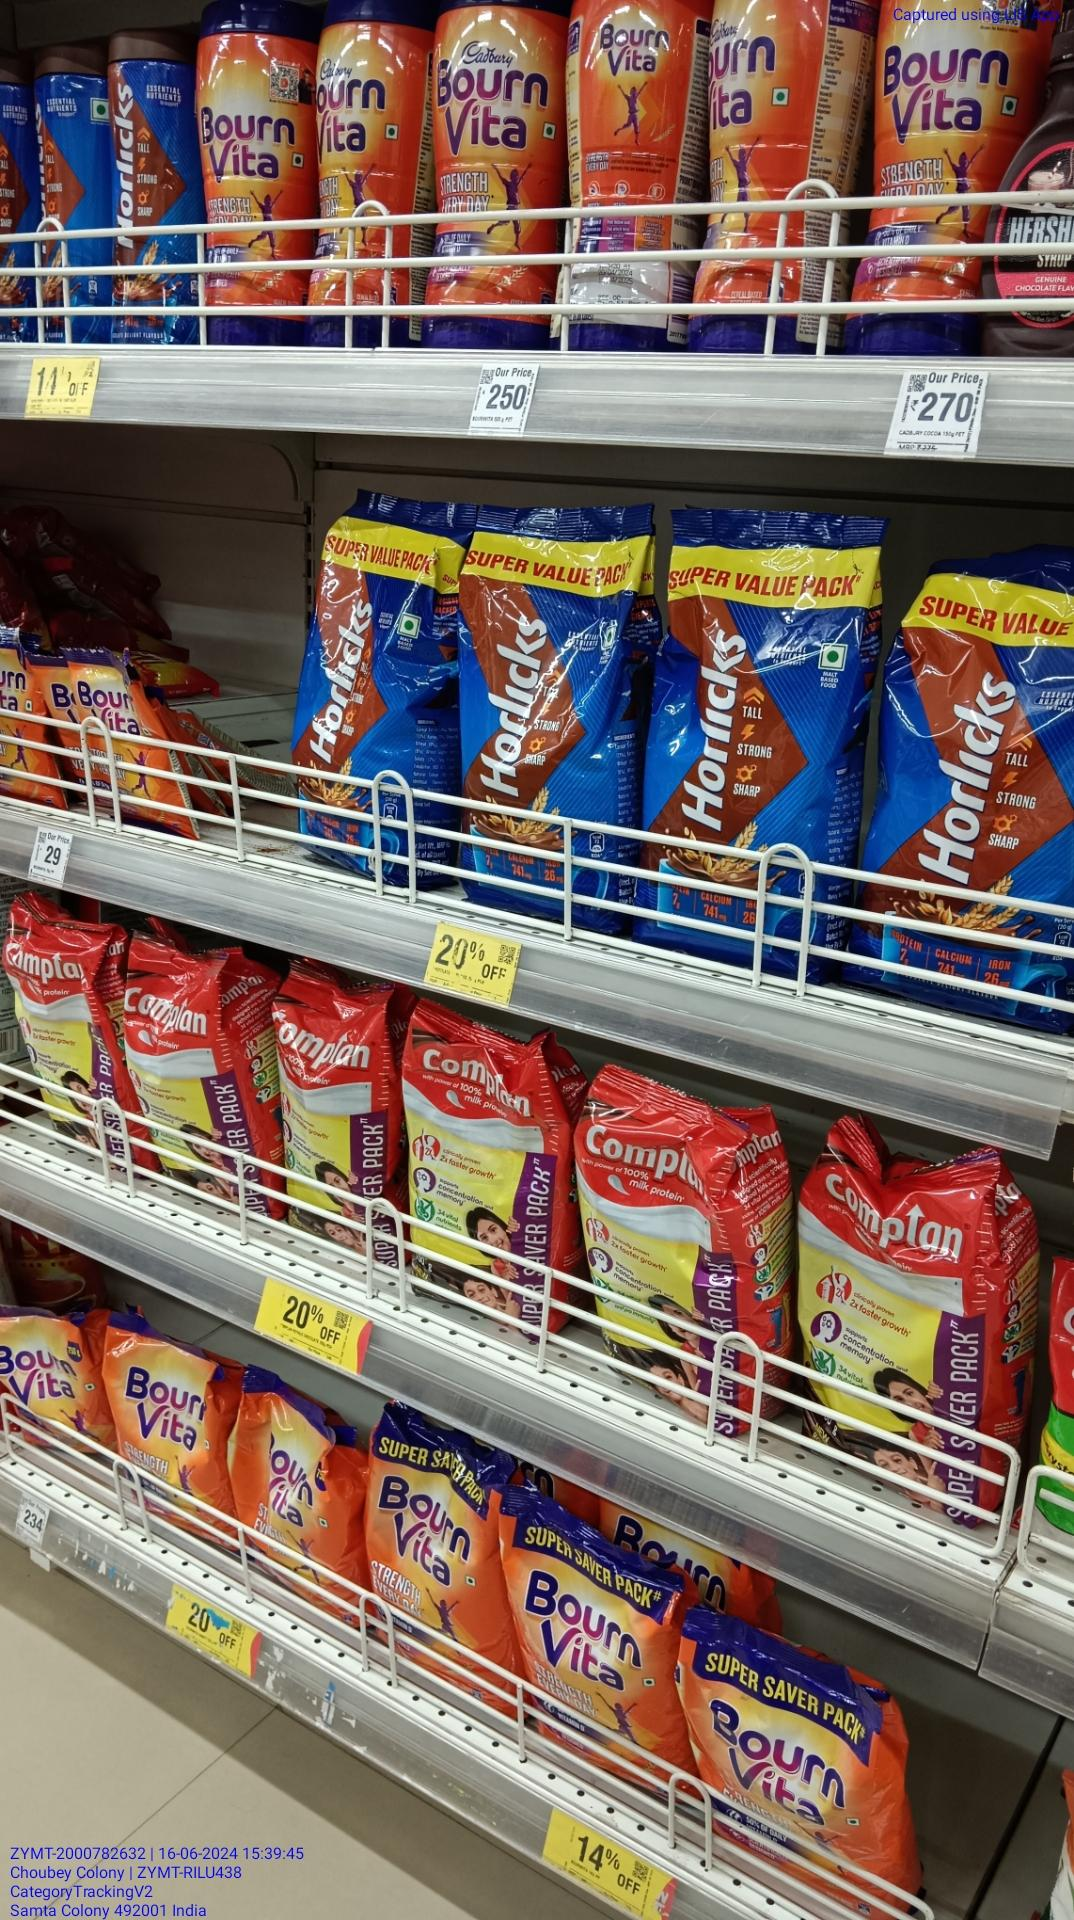BOURN_VITA_1_KG_JAR: (701, 0, 843, 359), (557, 3, 690, 351), (855, 0, 982, 357), (301, 8, 420, 352), (426, 7, 545, 345), (189, 1, 292, 344)
BOURN_VITA_500_G_POUCH: (103, 1321, 234, 1543), (237, 1389, 356, 1619)
BOURN_VITA_750_G_POUCH: (677, 1630, 900, 1900), (505, 1523, 672, 1771), (354, 1412, 499, 1675)
COMPLAN_RC_POUCH_700_GMS_12: (801, 1139, 1013, 1528), (591, 1073, 773, 1437), (383, 1022, 559, 1342), (131, 945, 263, 1199), (274, 989, 384, 1255), (8, 907, 123, 1160)
HORLICK_CHOCOLATE_1_KG_JAR: (102, 33, 186, 344)
HORLICK_CHOCOLATE_750_G_POUCH: (879, 551, 1074, 1034), (657, 508, 850, 973), (460, 506, 640, 930), (297, 501, 451, 878)
